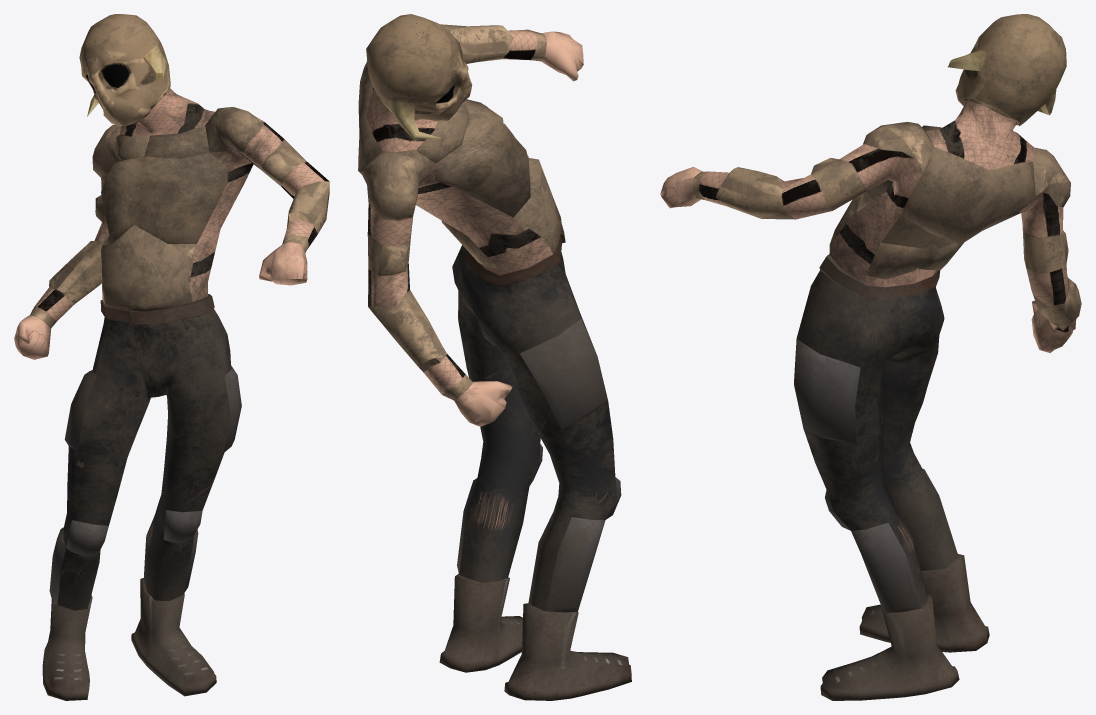
File: Anim_recibirdanyo_npc1.0020.obj
3 views of the same model, side by side, from view 1: azimuth 30°, elevation 25°; view 2: azimuth 150°, elevation 25°; view 3: azimuth 270°, elevation 25° (orthographic). The views are drawn at different scales.
Visible parts, largest first — view 1: NPC2; view 2: NPC2; view 3: NPC2.
Part boxes in pixels (x1,y1,x2,y2): NPC2: (14,14,329,700); NPC2: (358,14,631,700); NPC2: (660,14,1081,700).
Size of the model in its own units: 3.6 by 8.87 by 4.97.
